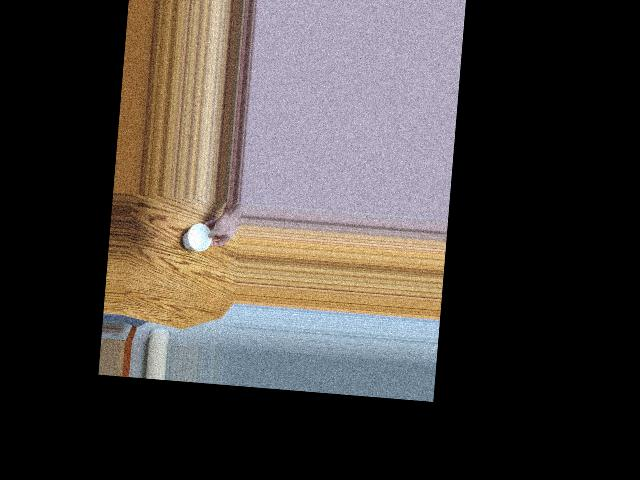cotage: (186, 220, 215, 251)
